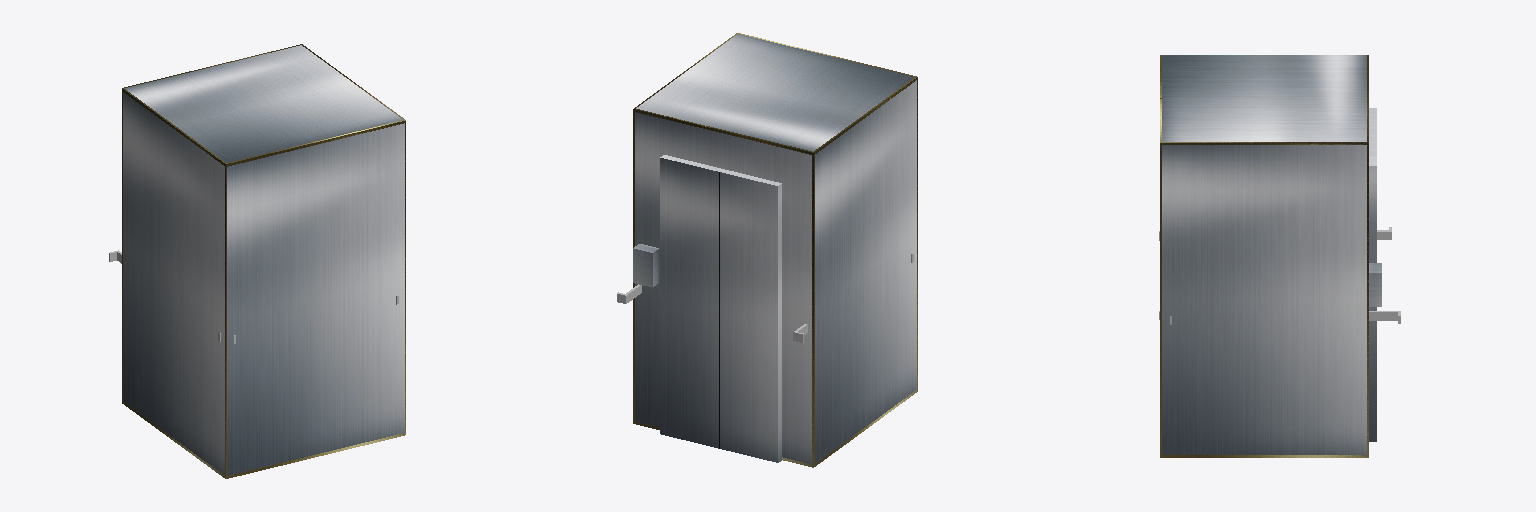
The picture shows the model from 3 angles: view 1: azimuth 30°, elevation 25°; view 2: azimuth 150°, elevation 25°; view 3: azimuth 270°, elevation 25°; orthographic projection.
Visible parts, largest first — view 1: 1,5x1,5x2,5; view 2: 1,5x1,5x2,5, Cube.001_Cube.007; view 3: 1,5x1,5x2,5, Cube.001_Cube.007.
Part boxes in pixels (x1,y1,x2,y2): 1,5x1,5x2,5: (122, 44, 405, 478); 1,5x1,5x2,5: (633, 33, 917, 467); Cube.001_Cube.007: (633, 244, 658, 287); 1,5x1,5x2,5: (1160, 55, 1376, 457); Cube.001_Cube.007: (1369, 263, 1381, 306).
Size of the model in its own units: 1.52 by 2.5 by 1.74.
18 materials, 4 textured.